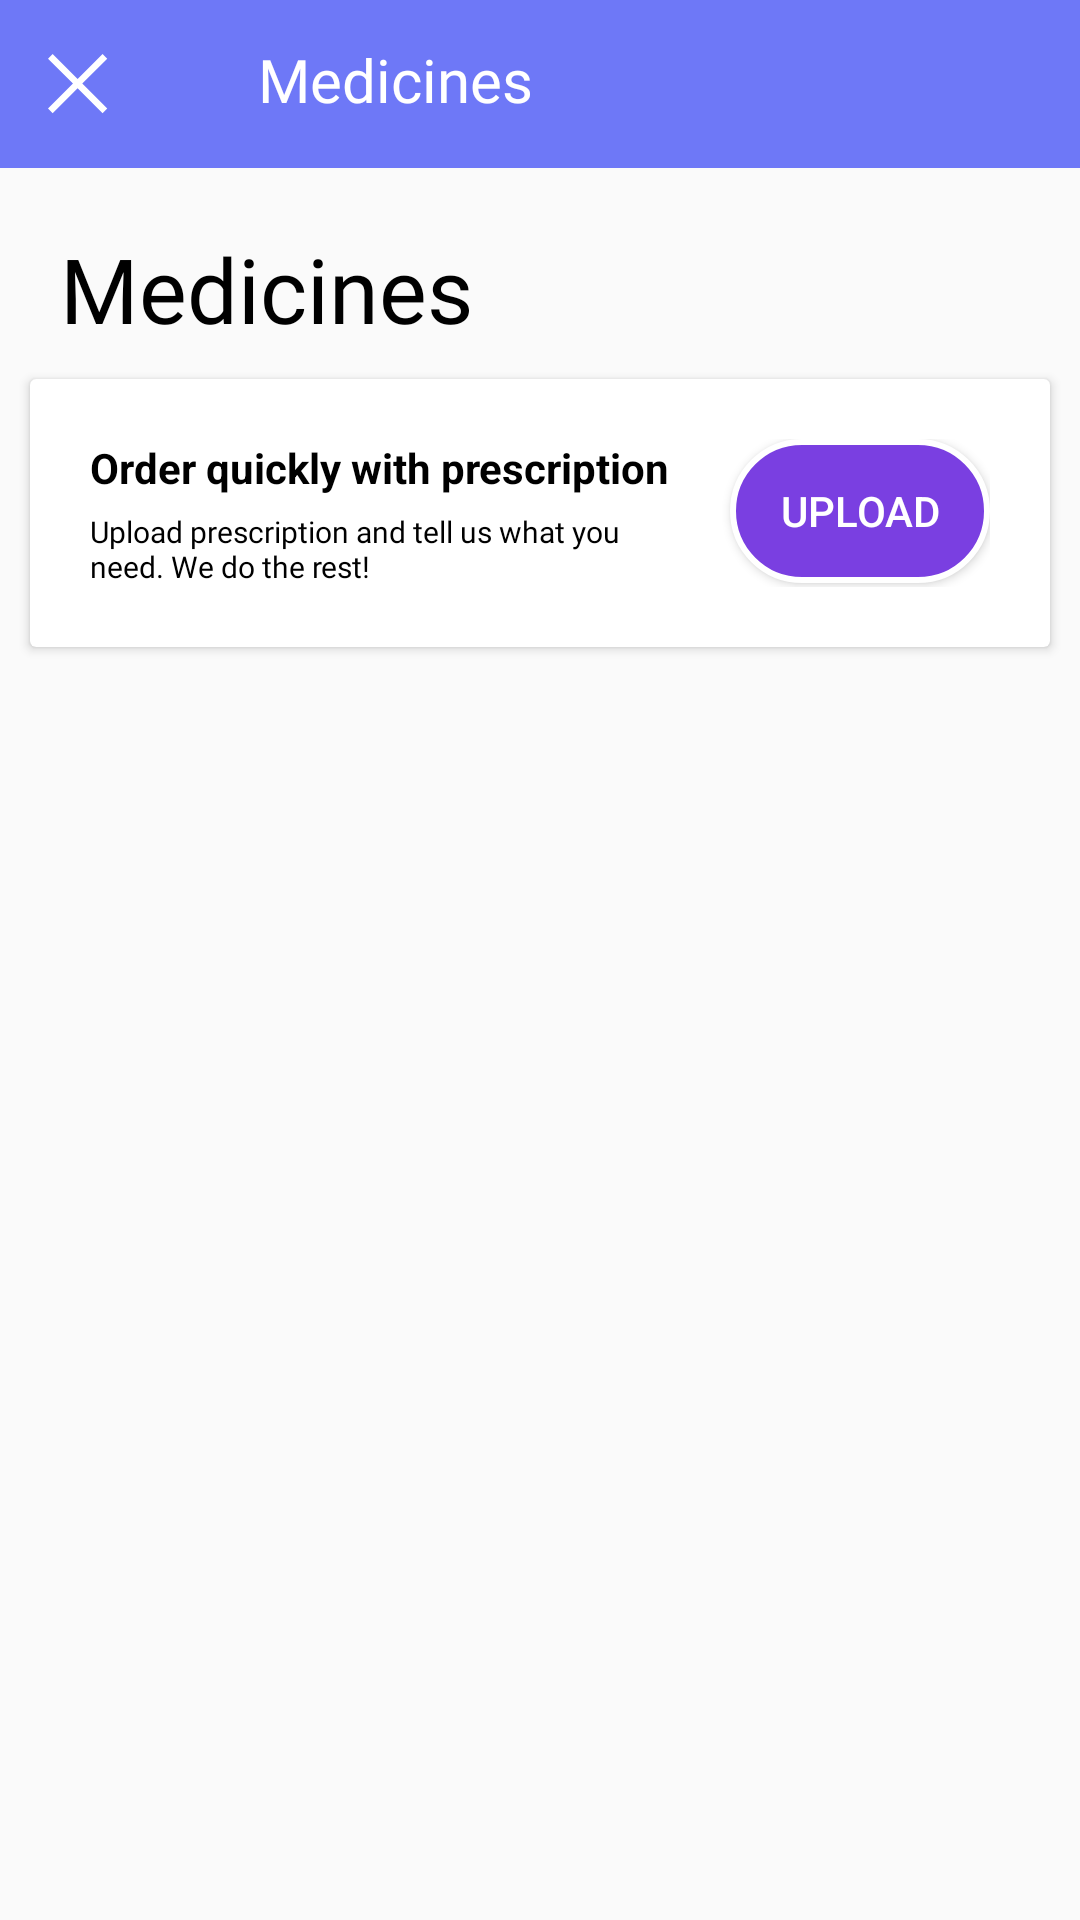

Where to tap for icons on this 1080x1920 app screen, as (x,y):
cross: (77,83)
